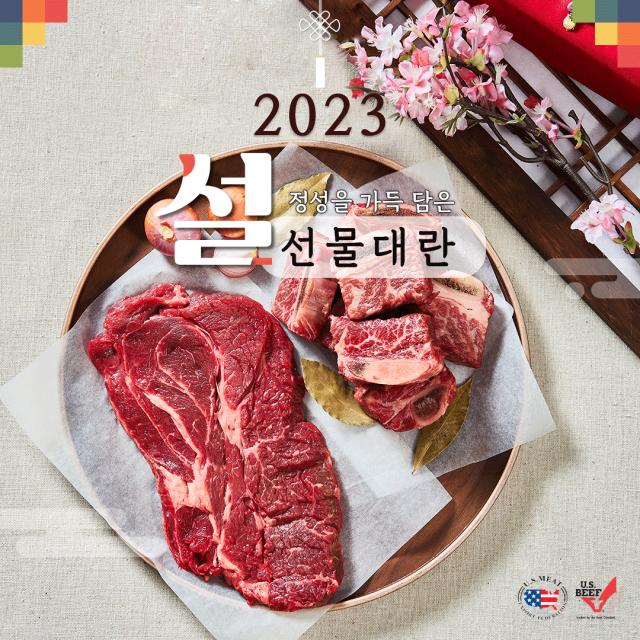beef: (160, 338, 290, 558)
